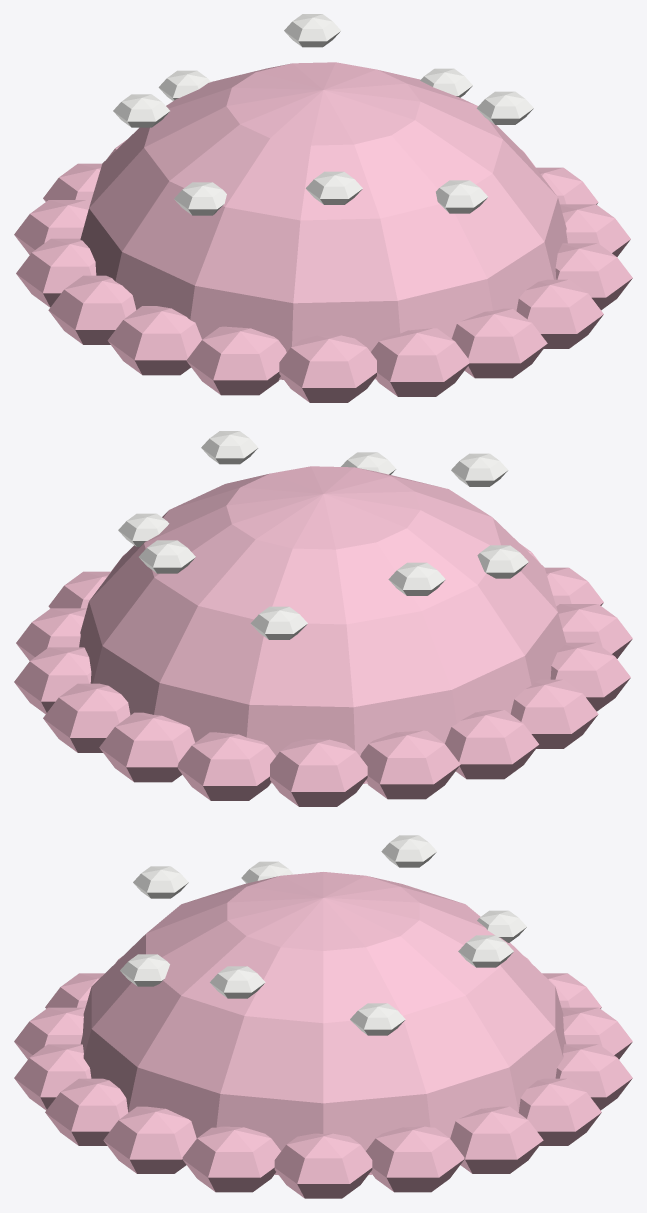
Rendered from HJ_GorroDucha.fbx.
The picture shows the model from 3 angles, top to bottom: view 1: azimuth 30°, elevation 25°; view 2: azimuth 150°, elevation 25°; view 3: azimuth 270°, elevation 25°; orthographic projection. The views are drawn at different scales.
Parts seen in each view (by area): view 1: HJ_GorroDucha; view 2: HJ_GorroDucha; view 3: HJ_GorroDucha.
Boxes of the visible parts, box(x1,y1,x2,y2) form: HJ_GorroDucha: box(14, 14, 632, 402); HJ_GorroDucha: box(14, 431, 632, 806); HJ_GorroDucha: box(14, 835, 632, 1198).
Size of the model in its own units: 0.336 by 0.12 by 0.3535.
